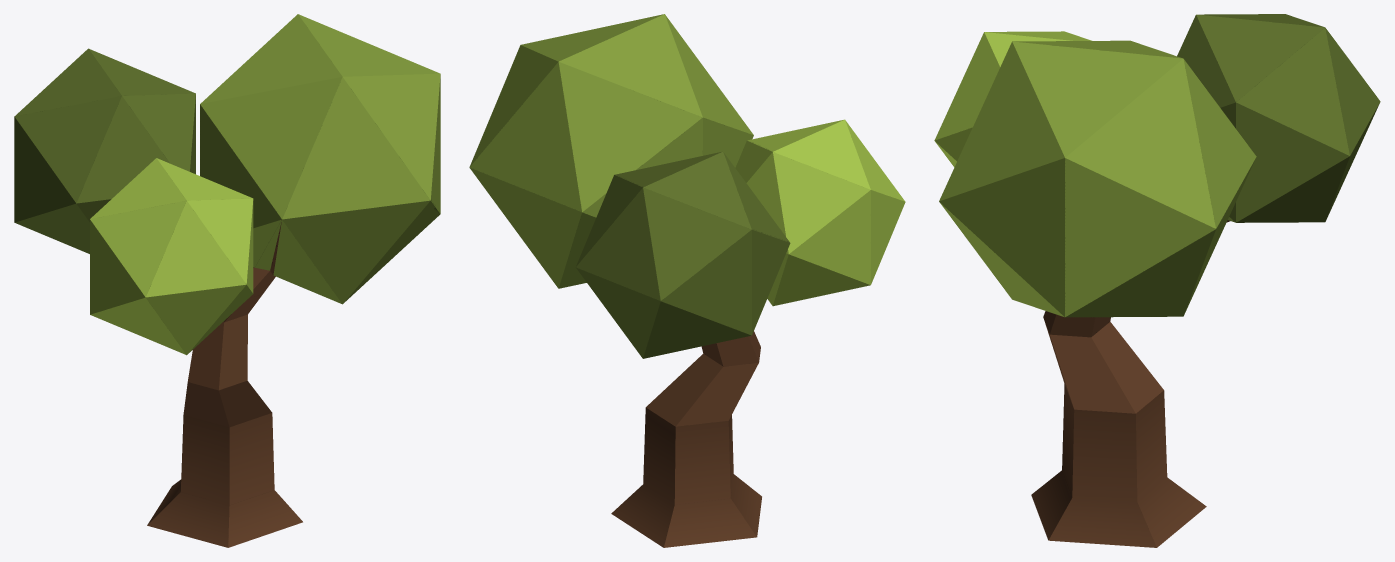
Rendered from Albero.fbx.
3 views of the same model, side by side, from view 1: azimuth 30°, elevation 25°; view 2: azimuth 150°, elevation 25°; view 3: azimuth 270°, elevation 25° (orthographic). The views are drawn at different scales.
Parts seen in each view (by area): view 1: polySurface24; view 2: polySurface24; view 3: polySurface24.
Boxes of the visible parts, left/top/right/bottom form: polySurface24: left=14, top=14, right=440, bottom=547; polySurface24: left=469, top=14, right=905, bottom=547; polySurface24: left=934, top=14, right=1380, bottom=547.
Bounding box in the file's own units: 2.71 × 3.33 × 2.63.
1 material, 1 textured.
